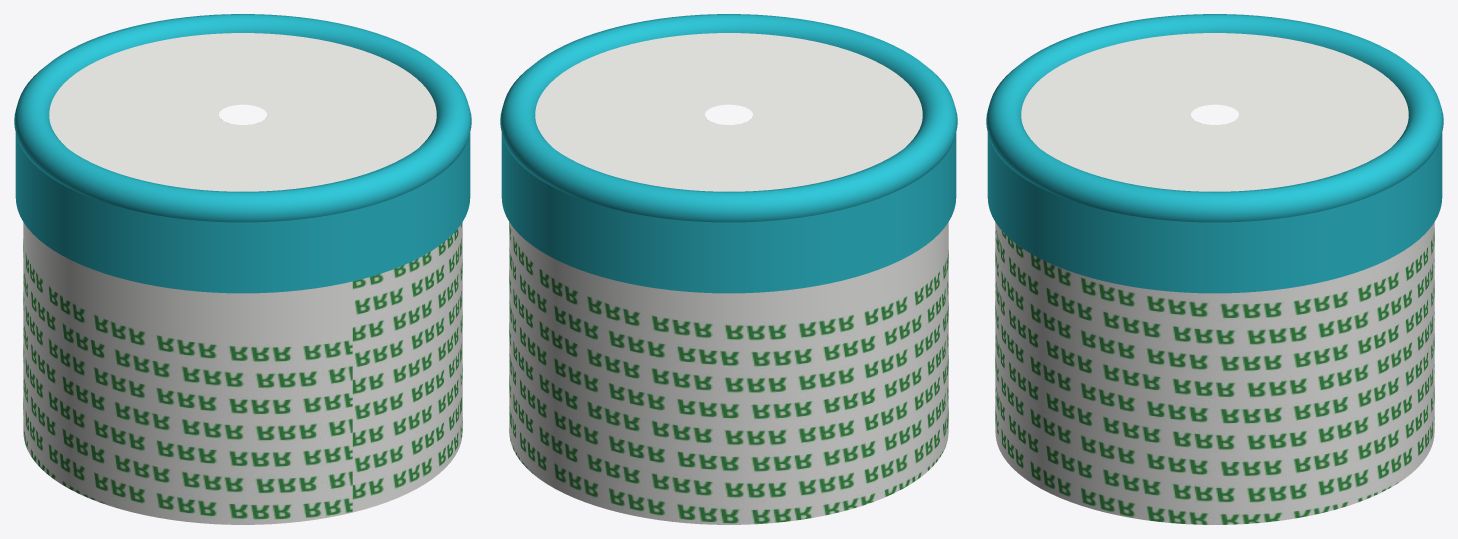
3 views of the same model, side by side, from view 1: azimuth 30°, elevation 25°; view 2: azimuth 150°, elevation 25°; view 3: azimuth 270°, elevation 25° (orthographic).
Visible parts, largest first — view 1: M50-H114; view 2: M50-H114; view 3: M50-H114.
Part boxes in pixels (box(x1,y1,x2,y2)): M50-H114: box(14, 14, 471, 524); M50-H114: box(500, 14, 957, 524); M50-H114: box(986, 14, 1443, 524).
Bounding box in the file's own units: 0.149 × 0.1177 × 0.149.
6 materials, 1 textured.
